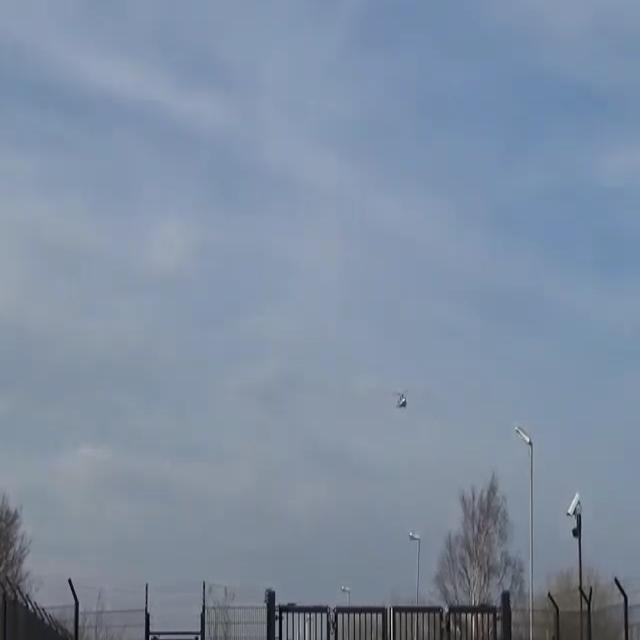Helicopter: (382, 383, 420, 415)
